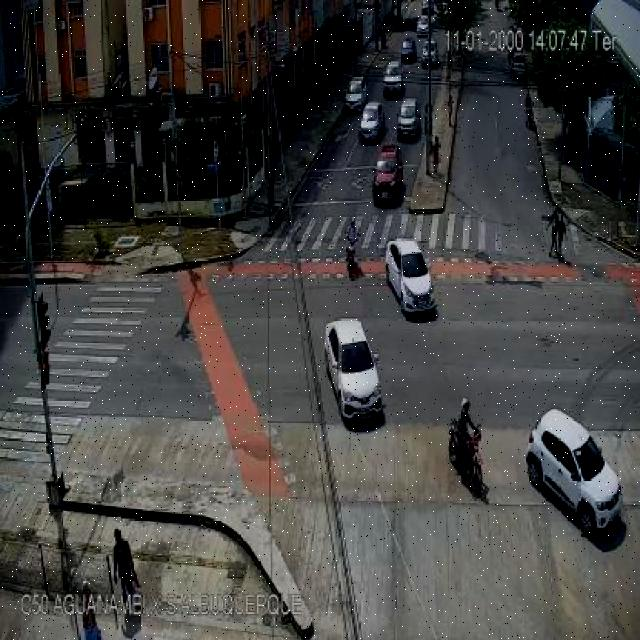car: (528, 408, 624, 538), (323, 318, 382, 420), (384, 234, 438, 320), (372, 146, 403, 208), (360, 102, 385, 142), (398, 98, 419, 134), (345, 78, 367, 110), (383, 58, 402, 94), (422, 38, 438, 68), (400, 40, 418, 66), (510, 52, 526, 74), (416, 12, 429, 32)
motorbike: (448, 398, 484, 492), (113, 527, 141, 616), (78, 578, 104, 640), (345, 216, 358, 279), (546, 206, 559, 262), (557, 210, 568, 262), (432, 133, 440, 173), (524, 92, 532, 125), (378, 24, 386, 52), (448, 95, 454, 128)
